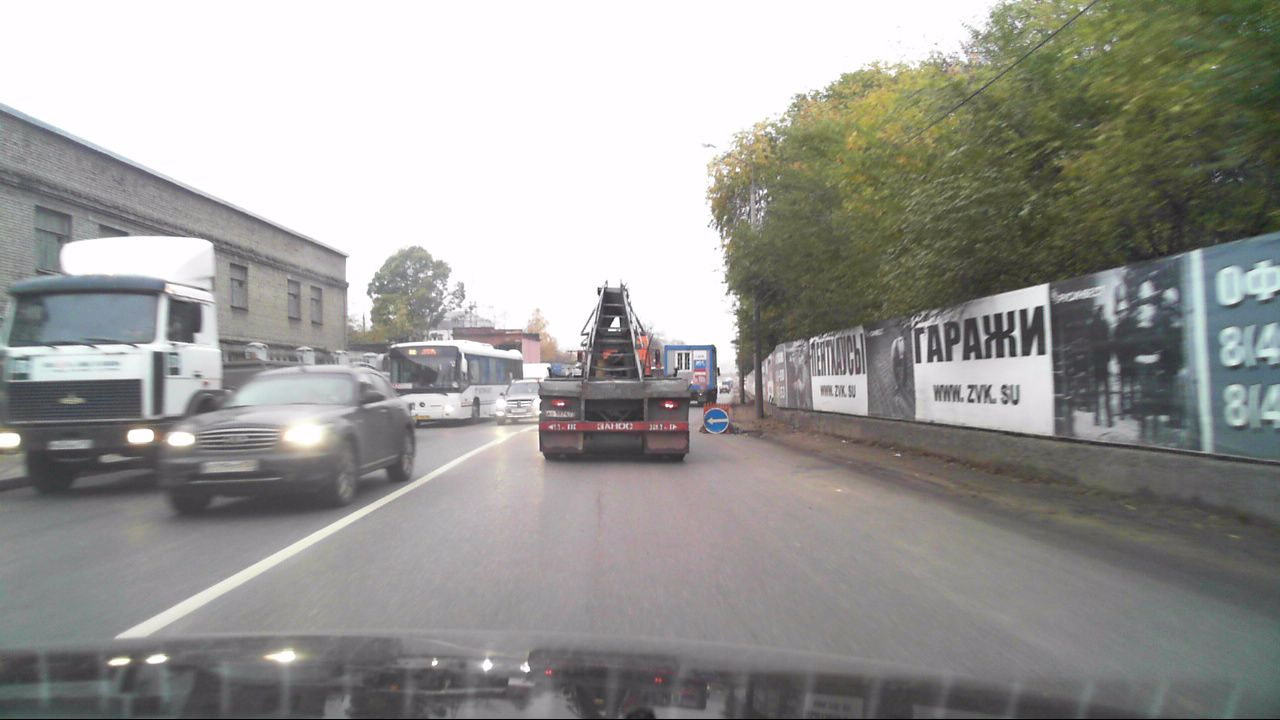Turn Left: (703, 408, 729, 433)
